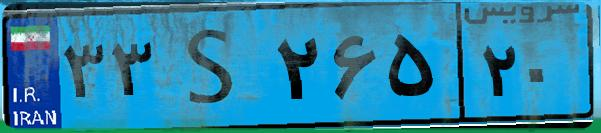0: (525, 38, 570, 115)
2: (270, 28, 330, 110), (475, 38, 525, 113)
3: (57, 26, 110, 100), (110, 28, 158, 98)
5: (385, 28, 445, 110)
6: (330, 28, 385, 110)
S: (158, 12, 270, 120)
